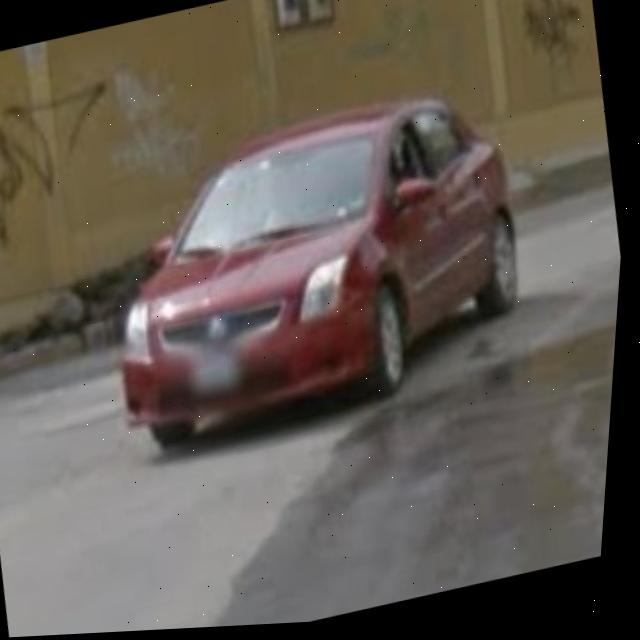vehicle: (91, 68, 563, 435)
